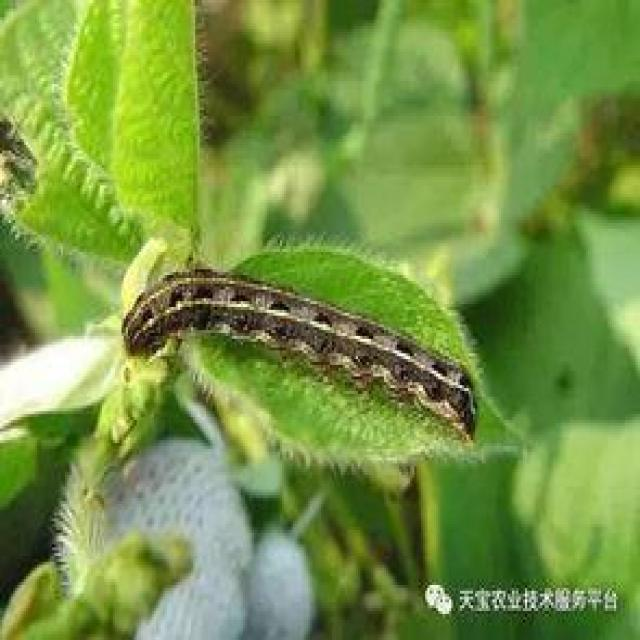BeetArmyWorm-Larva-: (116, 256, 486, 439)
